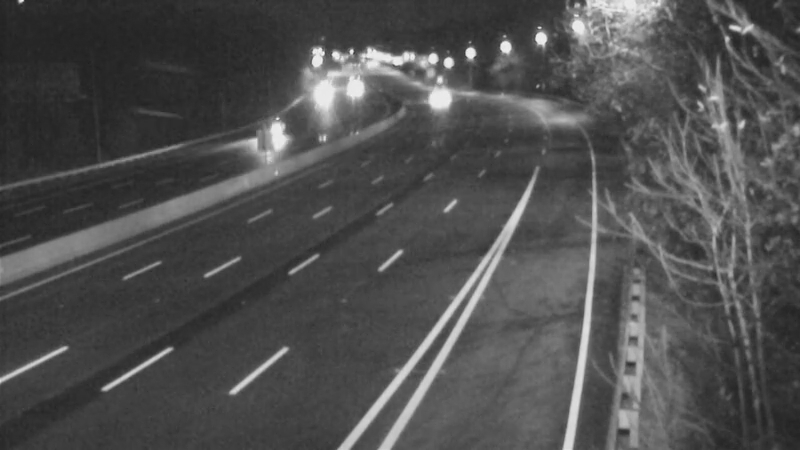vehicle: (408, 68, 458, 118), (252, 110, 302, 160), (299, 72, 349, 122), (329, 64, 379, 114)
